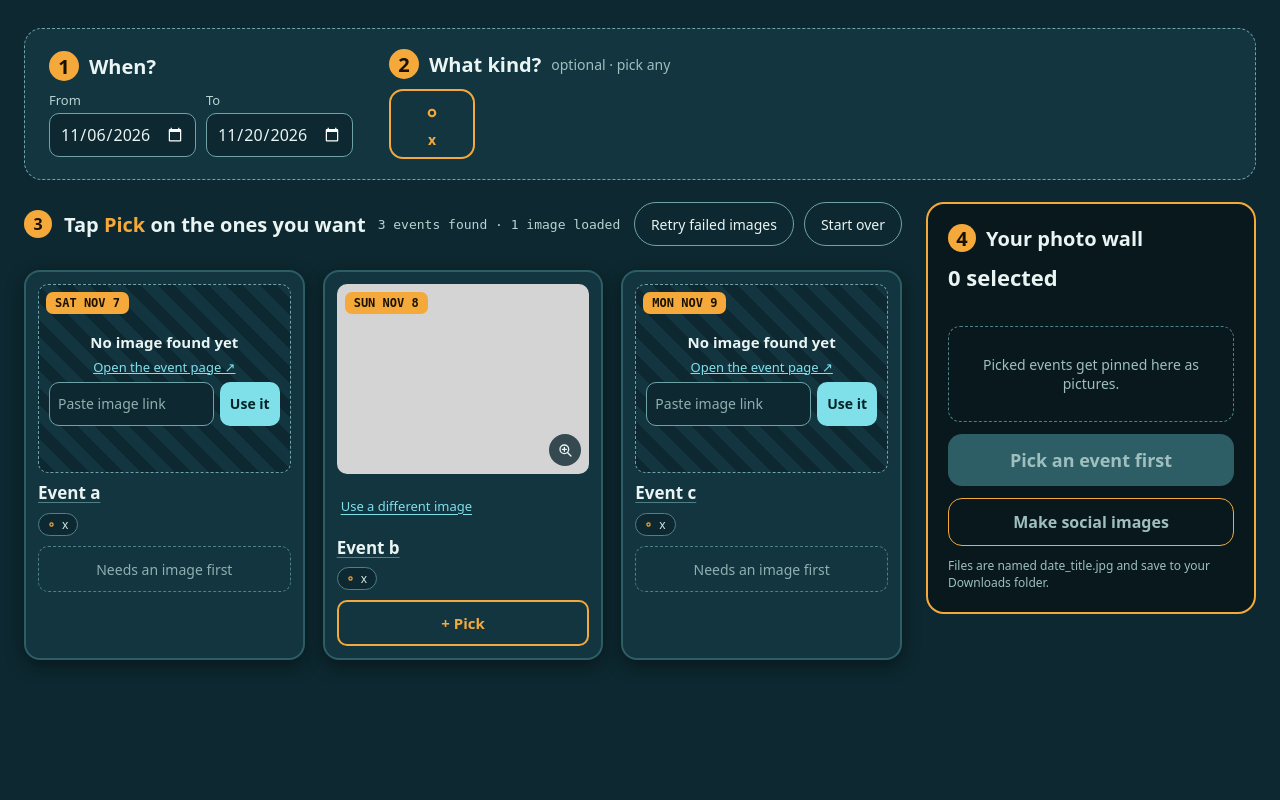
Test: EventsApp: pasting an image link › says so, and changes nothing, if the check itself can't be reached
Expected: the text "3 events found · 1 image loaded" is shown, [378,216,620,232]
In the field named "Paste an image link for Event a": (131, 404) [49,382,214,426], type "https://img.example.com/mine.jpg"
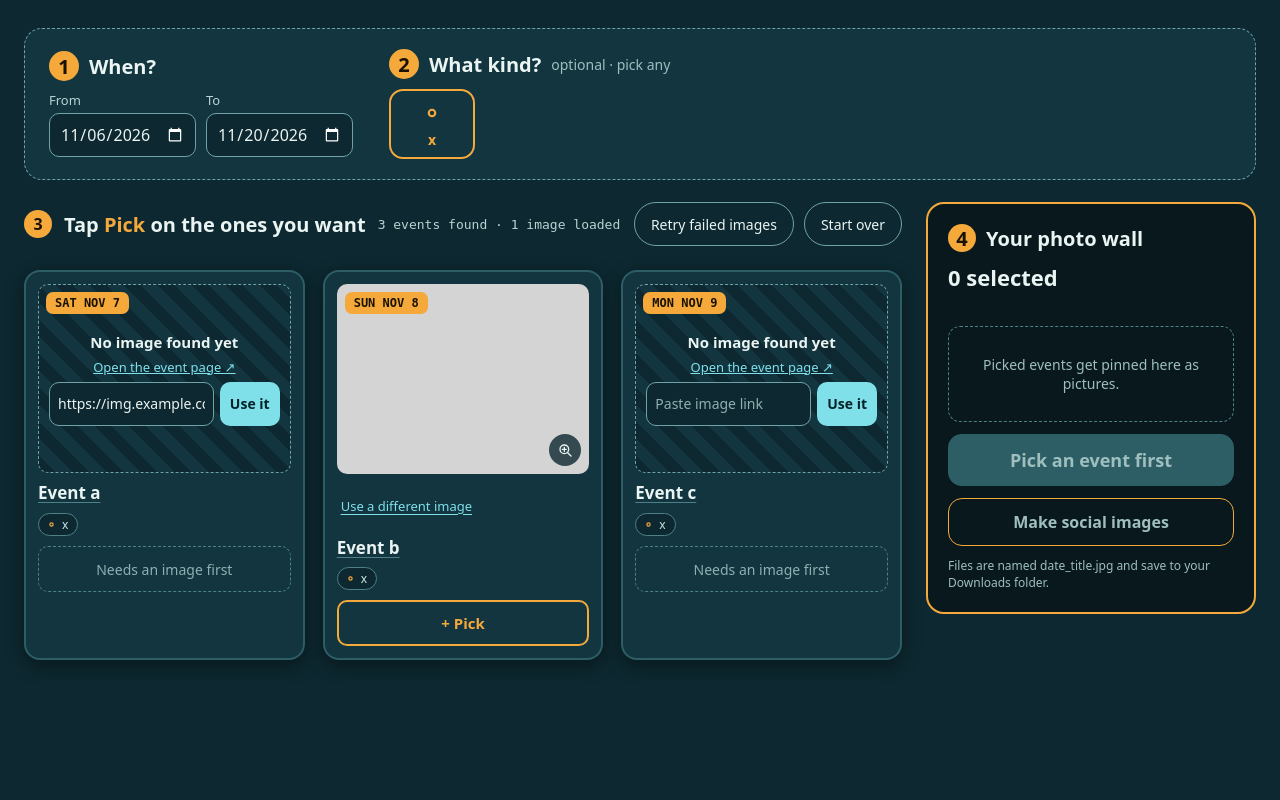
Click the button "Use it" below "SAT NOV 7": (250, 404) [220,382,280,426]
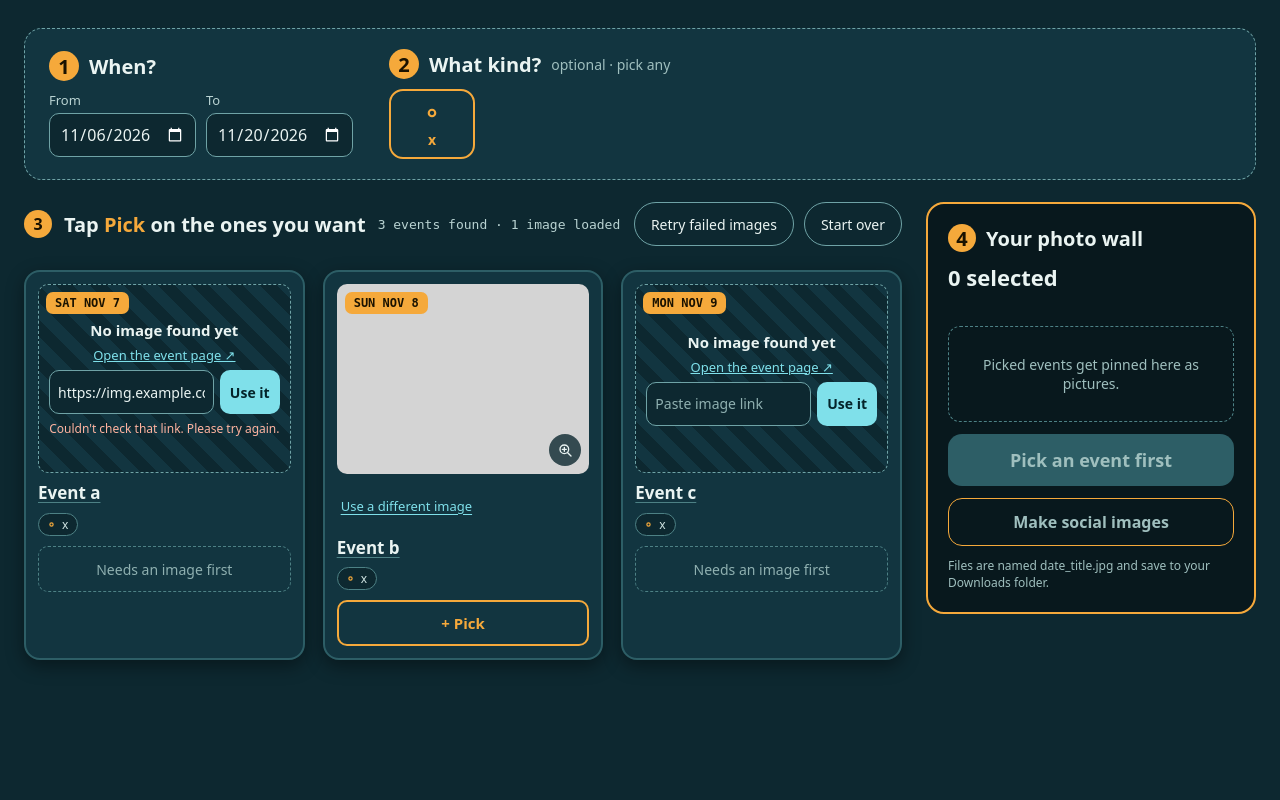
Expected: the text "3 events found · 1 image loaded" is shown, [378,216,620,232]
Now the message shows "Couldn't check", box [49,420,280,437]
